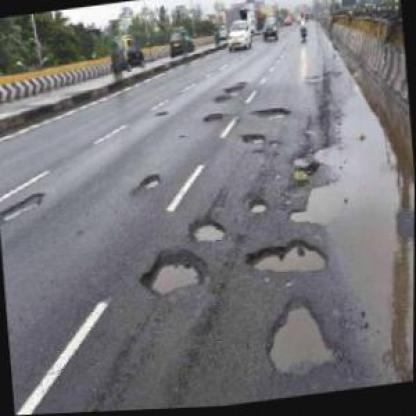pothole: (262, 292, 343, 378), (244, 235, 330, 282), (137, 244, 208, 298), (286, 180, 338, 229), (0, 187, 47, 223), (188, 214, 228, 245), (212, 78, 248, 106), (251, 106, 290, 124), (139, 172, 161, 191), (248, 198, 269, 215), (201, 110, 223, 126), (243, 133, 266, 147)
